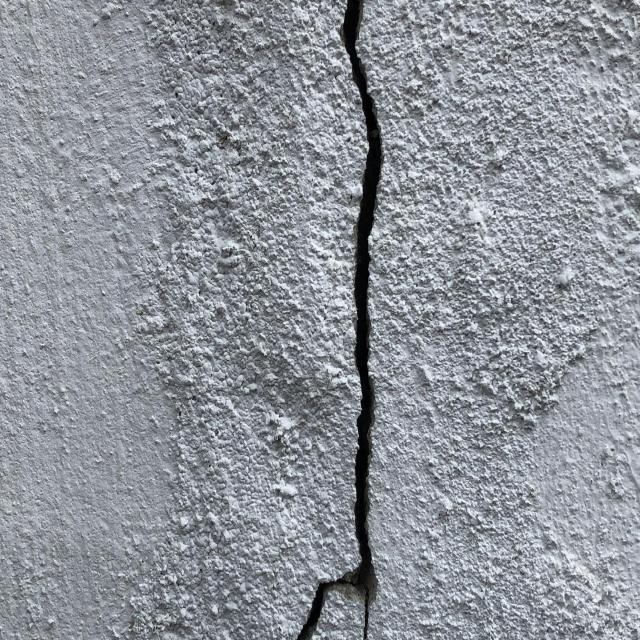GRIETA: (341, 0, 381, 639), (296, 572, 349, 639)
